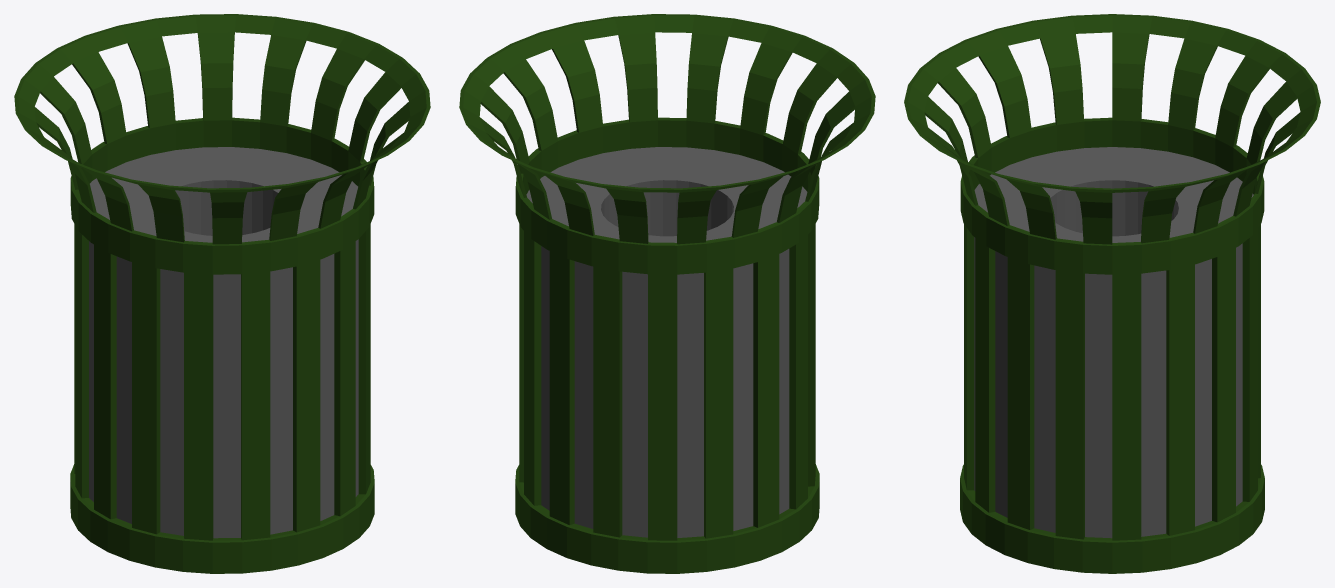
The model's file is trashcan.fbx.
3 views of the same model, side by side, from view 1: azimuth 30°, elevation 25°; view 2: azimuth 150°, elevation 25°; view 3: azimuth 270°, elevation 25° (orthographic).
Parts seen in each view (by area): view 1: Cylinder; view 2: Cylinder; view 3: Cylinder.
Part boxes in pixels (bbox=[...]): Cylinder: bbox=[14, 14, 430, 573]; Cylinder: bbox=[459, 14, 875, 573]; Cylinder: bbox=[904, 14, 1320, 573].
Size of the model in its own units: 281 by 303 by 281.
